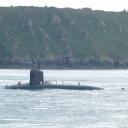submarine: (4, 55, 105, 91)
